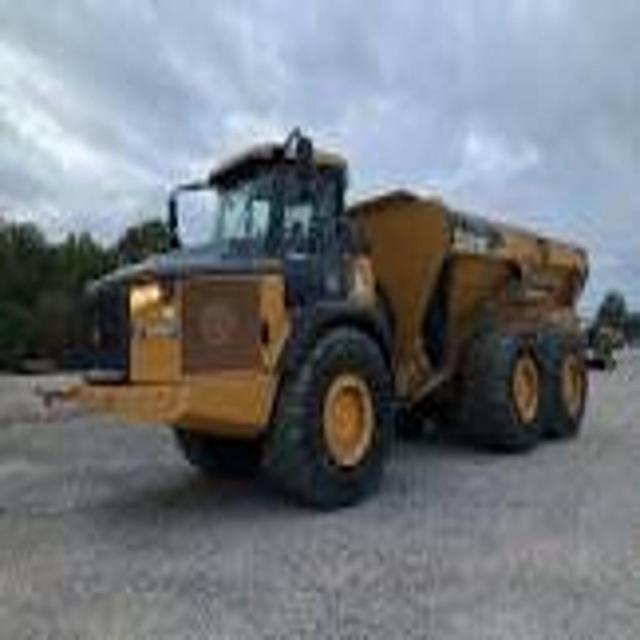dump_truck: (59, 117, 598, 515)
